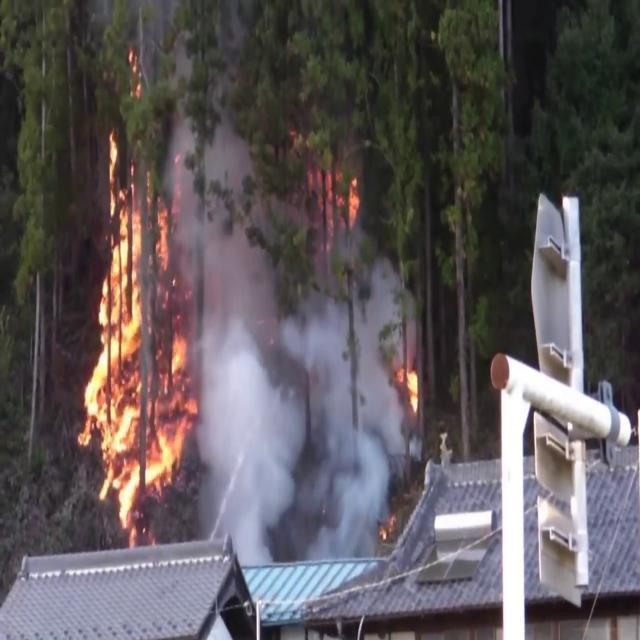Fire: (76, 134, 200, 529), (398, 354, 422, 422)
Smoke: (170, 216, 416, 575)
